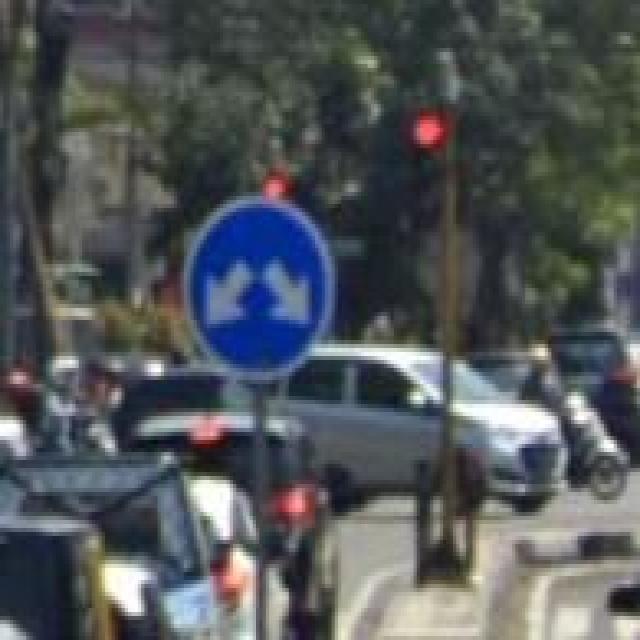traffic sign: (181, 200, 332, 388)
